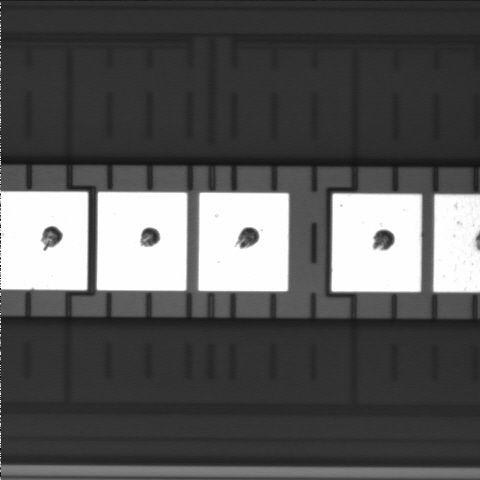pad: (198, 193, 289, 291), (97, 192, 187, 291), (332, 194, 422, 292)
